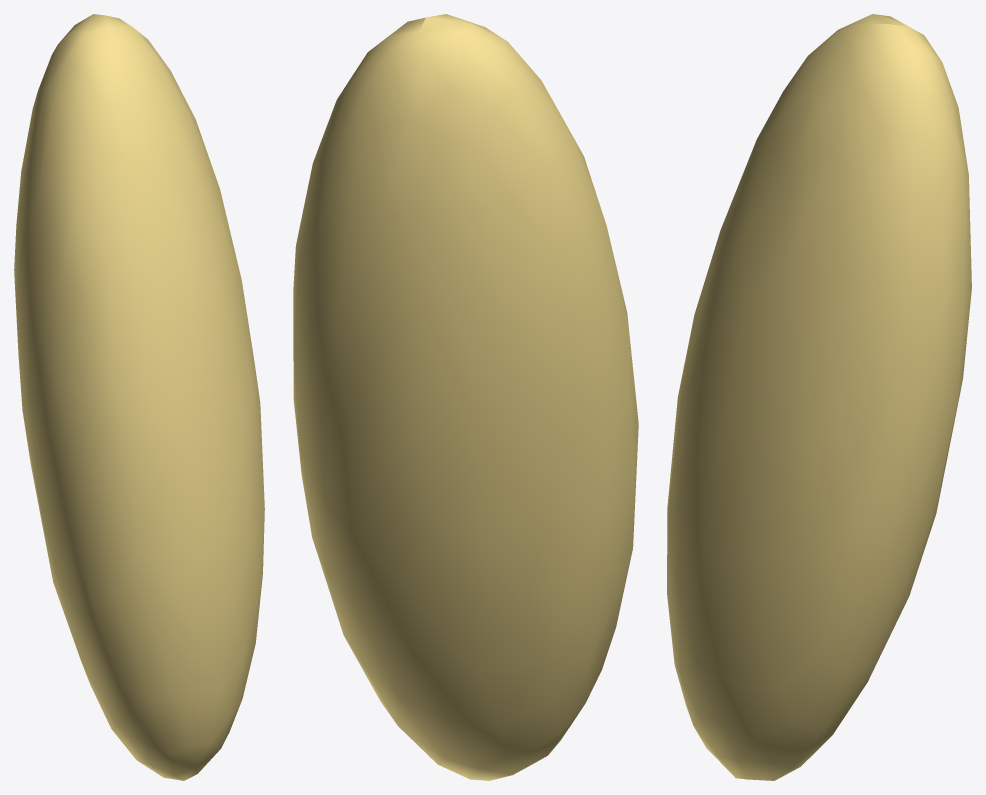
File: fma62315_mm2882.glb
3 renders of one model, left to right at view 1: azimuth 30°, elevation 25°; view 2: azimuth 150°, elevation 25°; view 3: azimuth 270°, elevation 25°, orthographic. The views are drawn at different scales.
Parts seen in each view (by area): view 1: FMA62315_MM2882; view 2: FMA62315_MM2882; view 3: FMA62315_MM2882.
Part boxes in pixels (bbox=[...]): FMA62315_MM2882: bbox=[14, 14, 264, 780]; FMA62315_MM2882: bbox=[293, 14, 638, 780]; FMA62315_MM2882: bbox=[667, 14, 971, 780].
Size of the model in its own units: 0.00166 by 0.00482 by 0.00177.
